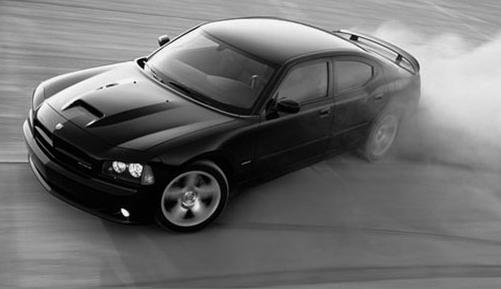car: (24, 15, 422, 234)
